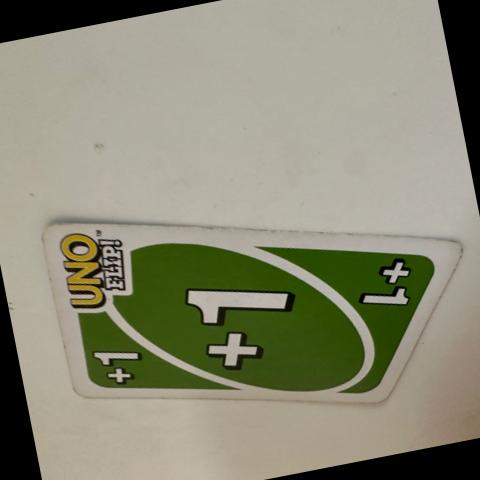lgreen-10: (84, 330, 156, 396)
